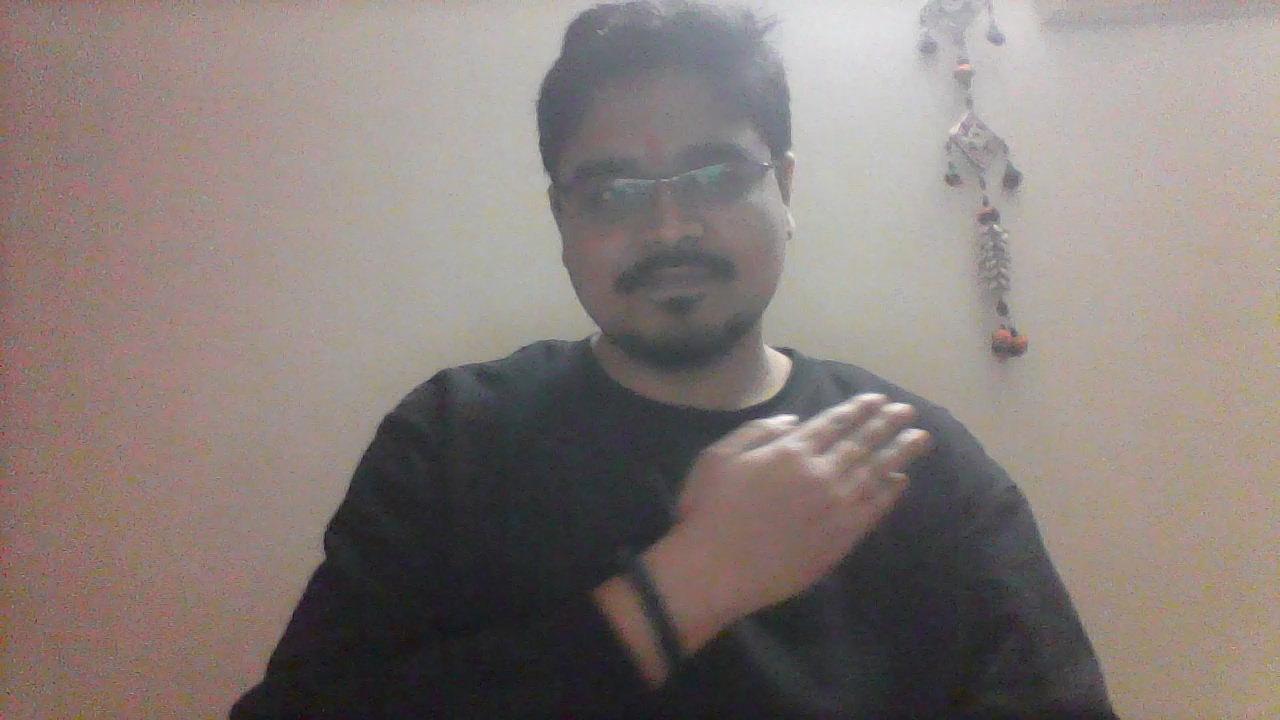Please: (667, 389, 936, 602)
